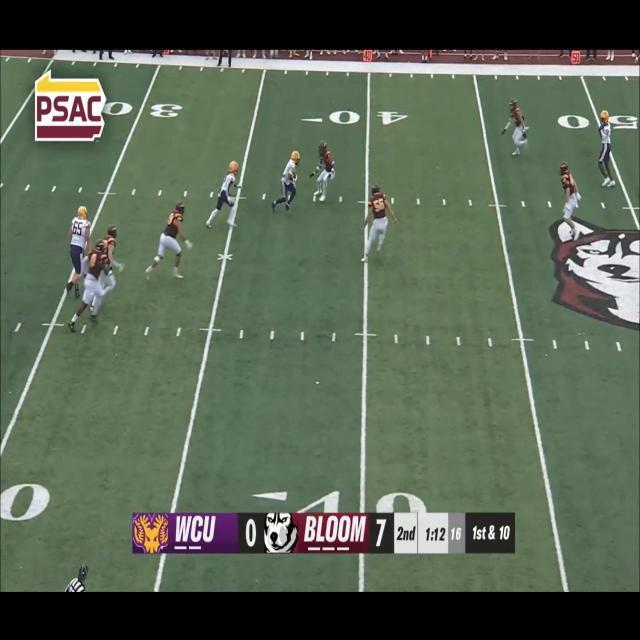football: (289, 170, 297, 187)
